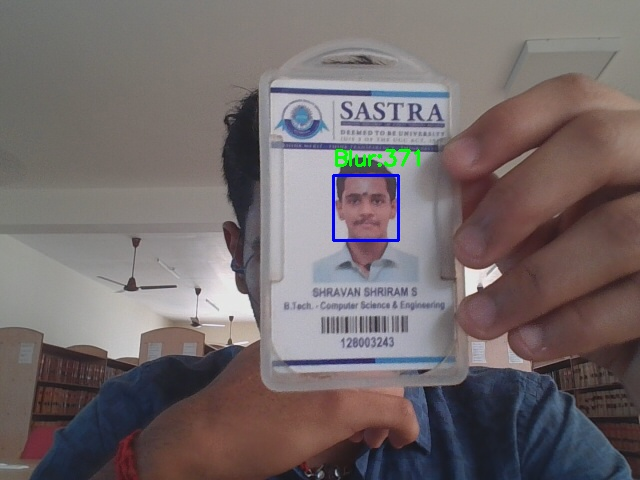fake: (333, 175, 398, 240)
